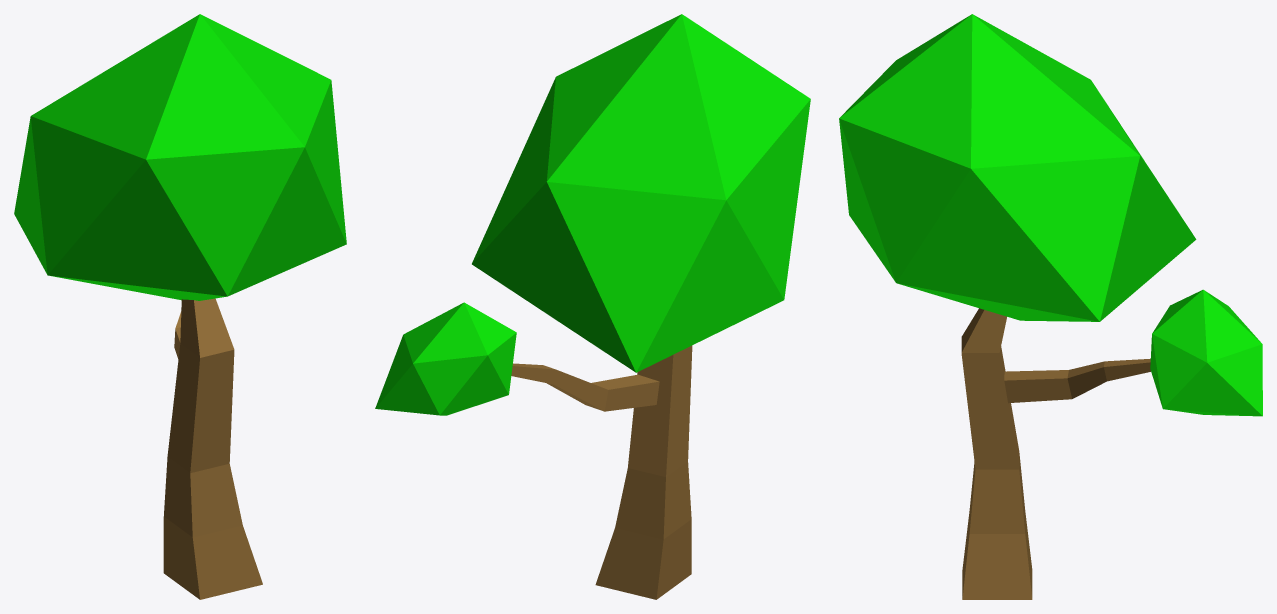
File: tree2.fbx
The picture shows the model from 3 angles, left to right: view 1: azimuth 30°, elevation 25°; view 2: azimuth 150°, elevation 25°; view 3: azimuth 270°, elevation 25°; orthographic projection. The views are drawn at different scales.
Parts seen in each view (by area): view 1: Cube; view 2: Cube; view 3: Cube.
Part boxes in pixels (x1,y1,x2,y2): Cube: (14,14,346,599); Cube: (375,14,810,599); Cube: (839,14,1262,599).
Bounding box in the file's own units: 253 × 474 × 326.
Materials: 1 (1 with a texture image).
